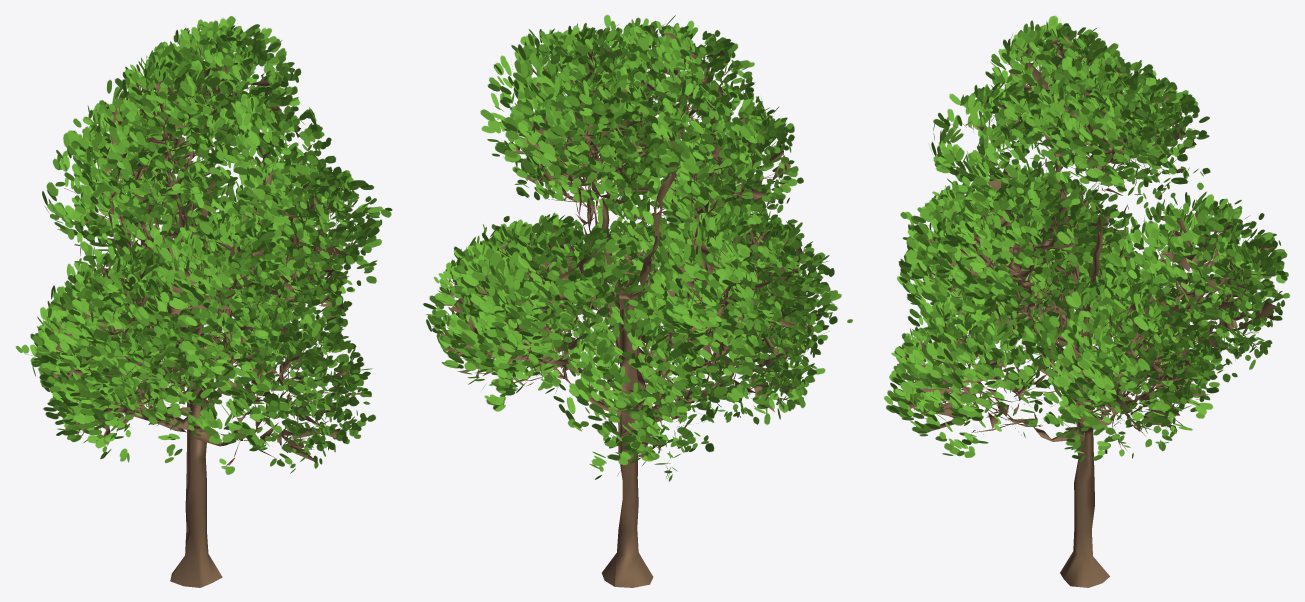
File: stylized-tree.glb
3 views of the same model, side by side, from view 1: azimuth 30°, elevation 25°; view 2: azimuth 150°, elevation 25°; view 3: azimuth 270°, elevation 25° (orthographic). The views are drawn at different scales.
Parts seen in each view (by area): view 1: oak 01, oak 01.001; view 2: oak 01, oak 01.001; view 3: oak 01, oak 01.001.
Boxes of the visible parts, x1,y1,x2,y2 form: oak 01: [16, 16, 392, 474]; oak 01.001: [24, 42, 361, 587]; oak 01: [423, 15, 852, 481]; oak 01.001: [432, 27, 829, 587]; oak 01: [884, 15, 1289, 462]; oak 01.001: [904, 34, 1282, 587].
Bounding box in the file's own units: 0.3678 × 0.564 × 0.389.
2 materials, 1 textured.
